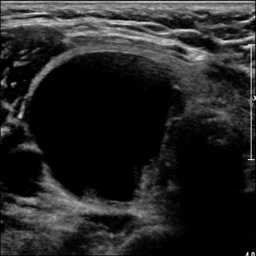mass: (31, 52, 182, 204)
